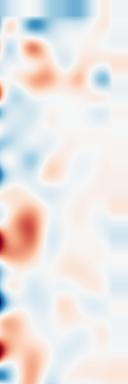filament: (0, 200, 54, 268)
